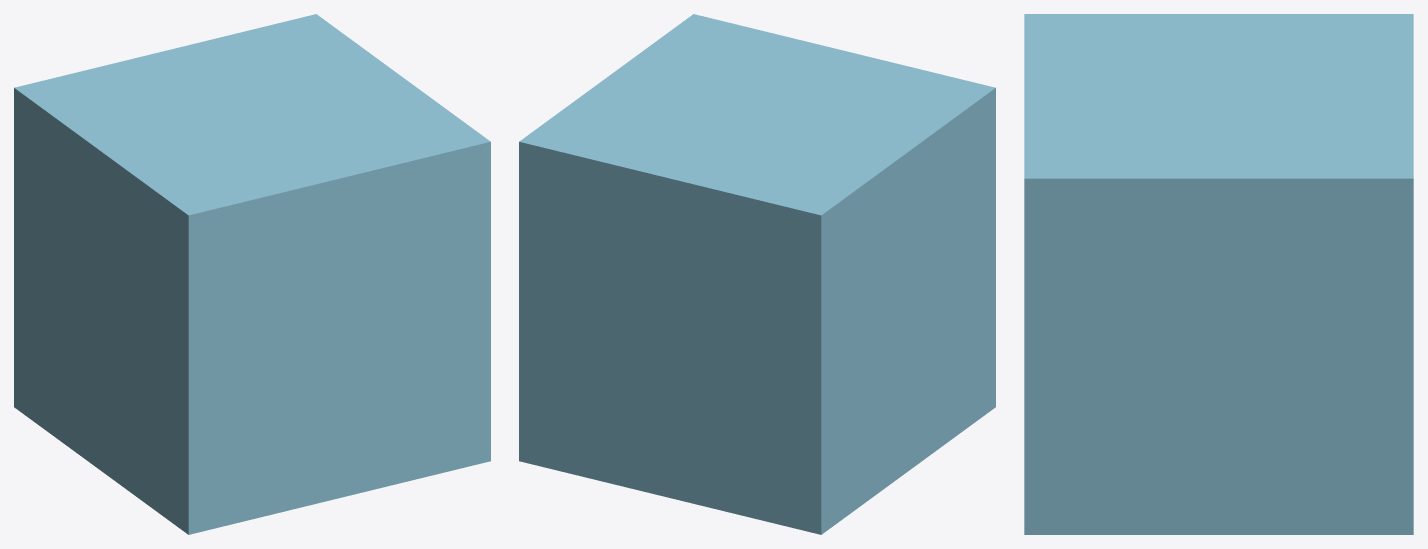
Rendered from boxAssy.FBX.
3 views of the same model, side by side, from view 1: azimuth 30°, elevation 25°; view 2: azimuth 150°, elevation 25°; view 3: azimuth 270°, elevation 25° (orthographic). The views are drawn at different scales.
Visible parts, largest first — view 1: packingBoxBase, packingBoxTop, packingBoxTop001; view 2: packingBoxBase, packingBoxTop, packingBoxTop001; view 3: packingBoxBase, packingBoxTop001, packingBoxTop.
Part boxes in pixels (x1,y1,x2,y2): packingBoxBase: [14, 91, 490, 534]; packingBoxTop: [14, 51, 339, 218]; packingBoxTop001: [165, 14, 490, 181]; packingBoxBase: [519, 91, 995, 534]; packingBoxTop: [670, 51, 995, 218]; packingBoxTop001: [519, 14, 844, 181]; packingBoxBase: [1024, 182, 1413, 534]; packingBoxTop001: [1024, 96, 1413, 181]; packingBoxTop: [1024, 14, 1413, 96].
Size of the model in its own units: 0.5 by 0.505 by 0.5.
